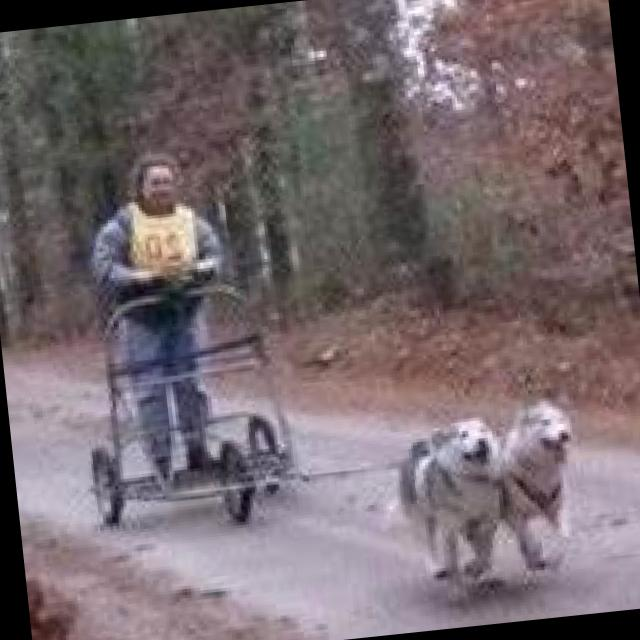animal: (393, 412, 517, 586), (492, 392, 590, 573)
